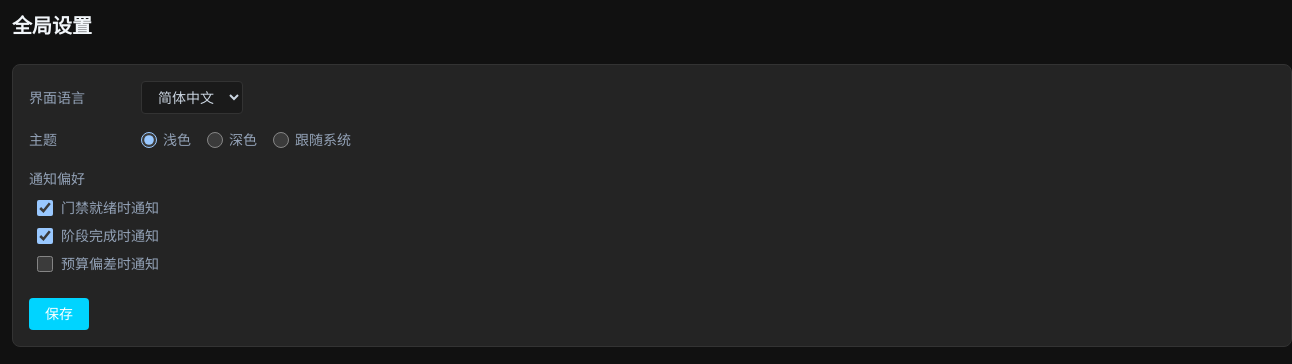
GeneralSettings › 保存失败应显示错误消息
Click the button "保存". click: (59, 314)
box: [29,298,89,330]
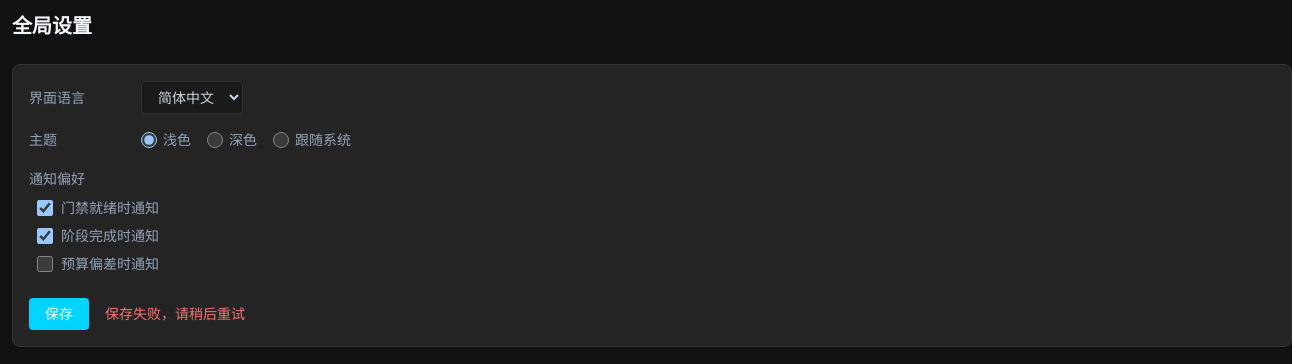
Now the text "保存失败，请稍后重试" is shown, box [105,304,245,324]
